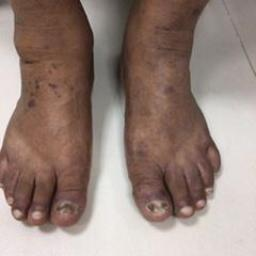Dorsal View -Both Feet-: (3, 6, 237, 246)
